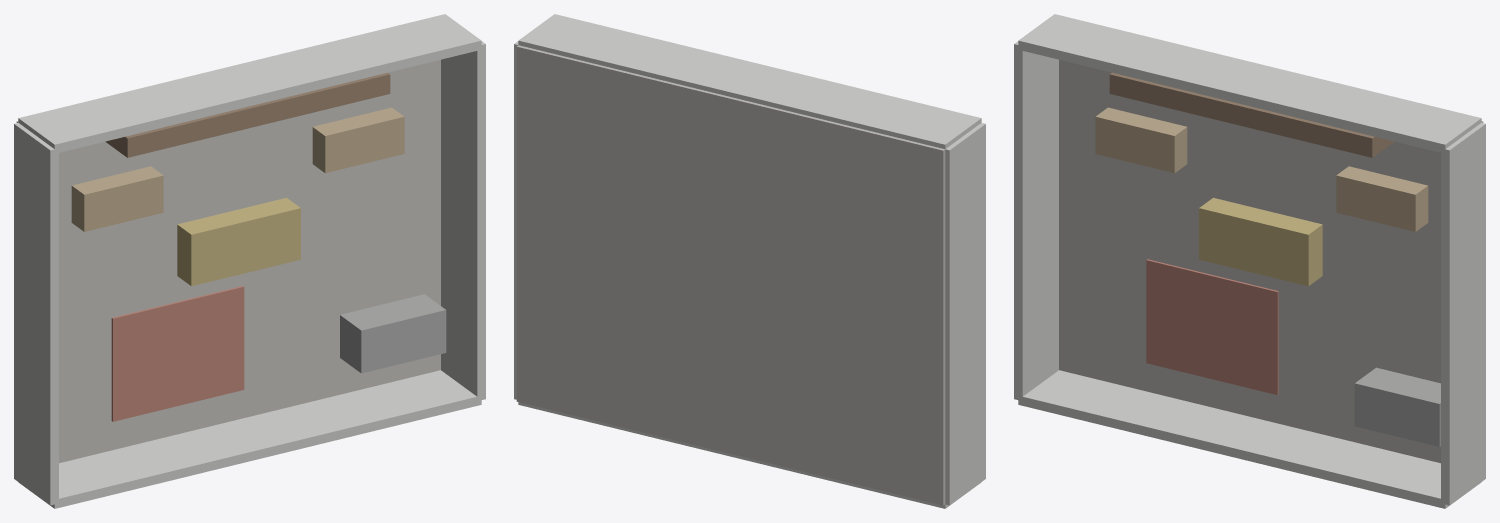
The model's file is sample_4_retail.glb.
The picture shows the model from 3 angles, left to right: view 1: azimuth 30°, elevation 25°; view 2: azimuth 150°, elevation 25°; view 3: azimuth 330°, elevation 25°; orthographic projection.
Visible parts, largest first — view 1: floor, wall_north, wall_south, wall_west, wall_east, accent_rug, display_island, cash_wrap, shelf_north, display_table_left, display_table_right; view 2: floor, wall_north, wall_west, wall_south, wall_east; view 3: floor, wall_north, wall_south, wall_east, wall_west, accent_rug, display_island, shelf_north, cash_wrap, display_table_left, display_table_right.
Part boxes in pixels (x1,y1,x2,y2): floor: (16, 59, 440, 463); wall_north: (18, 14, 481, 153); wall_south: (19, 370, 481, 508); wall_west: (14, 122, 58, 505); wall_east: (441, 41, 485, 399); accent_rug: (111, 286, 244, 421); display_island: (177, 197, 300, 286); cash_wrap: (340, 294, 446, 373); shelf_north: (105, 72, 390, 157); display_table_left: (71, 166, 163, 231); display_table_right: (312, 107, 404, 173); floor: (516, 45, 945, 505); wall_north: (518, 14, 981, 148); wall_west: (945, 122, 985, 505); wall_south: (518, 402, 980, 508); wall_east: (514, 41, 518, 399); floor: (1059, 59, 1483, 463); wall_north: (1018, 14, 1481, 153); wall_south: (1018, 370, 1480, 508); wall_east: (1441, 122, 1485, 505); wall_west: (1014, 41, 1058, 400); accent_rug: (1146, 259, 1278, 394); display_island: (1199, 197, 1322, 286); shelf_north: (1109, 72, 1394, 157); cash_wrap: (1354, 367, 1440, 446); display_table_left: (1095, 107, 1187, 173); display_table_right: (1336, 166, 1428, 231).
Bounding box in the file's own units: 7.96 × 6.36 × 1.21.
